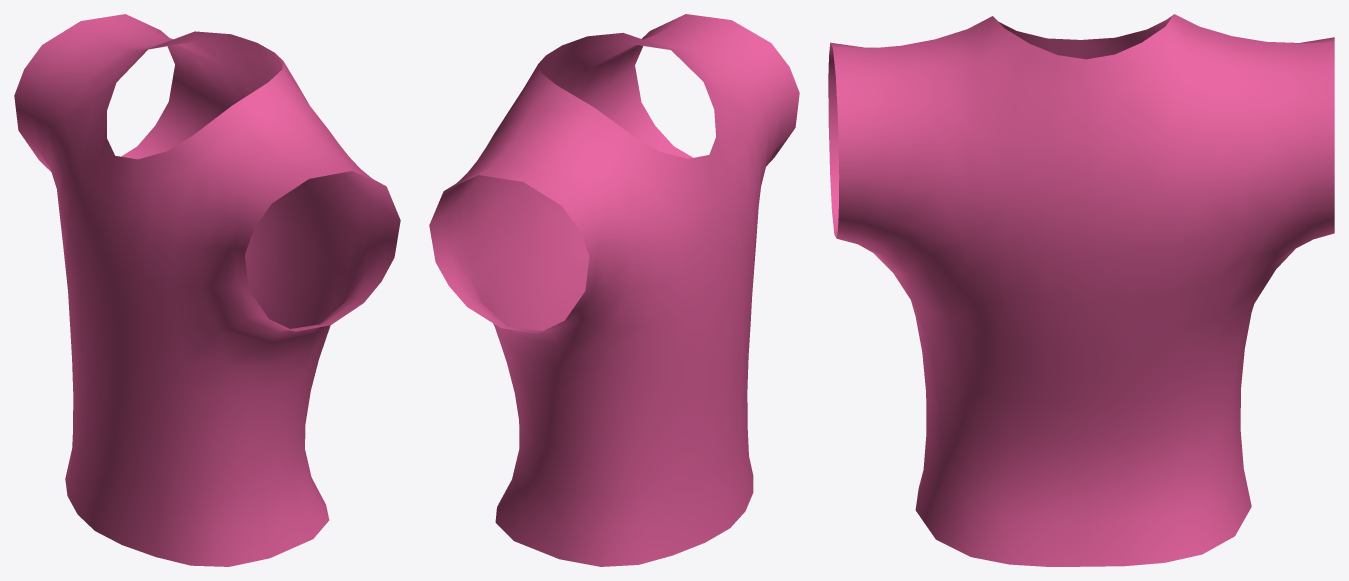
The model's file is Tshirt02.fbx.
3 views of the same model, side by side, from view 1: azimuth 30°, elevation 25°; view 2: azimuth 150°, elevation 25°; view 3: azimuth 270°, elevation 25° (orthographic). The views are drawn at different scales.
Parts seen in each view (by area): view 1: Shirt01.001; view 2: Shirt01.001; view 3: Shirt01.001.
Boxes of the visible parts, x1,y1,x2,y2 form: Shirt01.001: [14, 14, 400, 566]; Shirt01.001: [429, 14, 799, 566]; Shirt01.001: [828, 14, 1334, 566].
Size of the model in its own units: 224 by 427 by 389.
